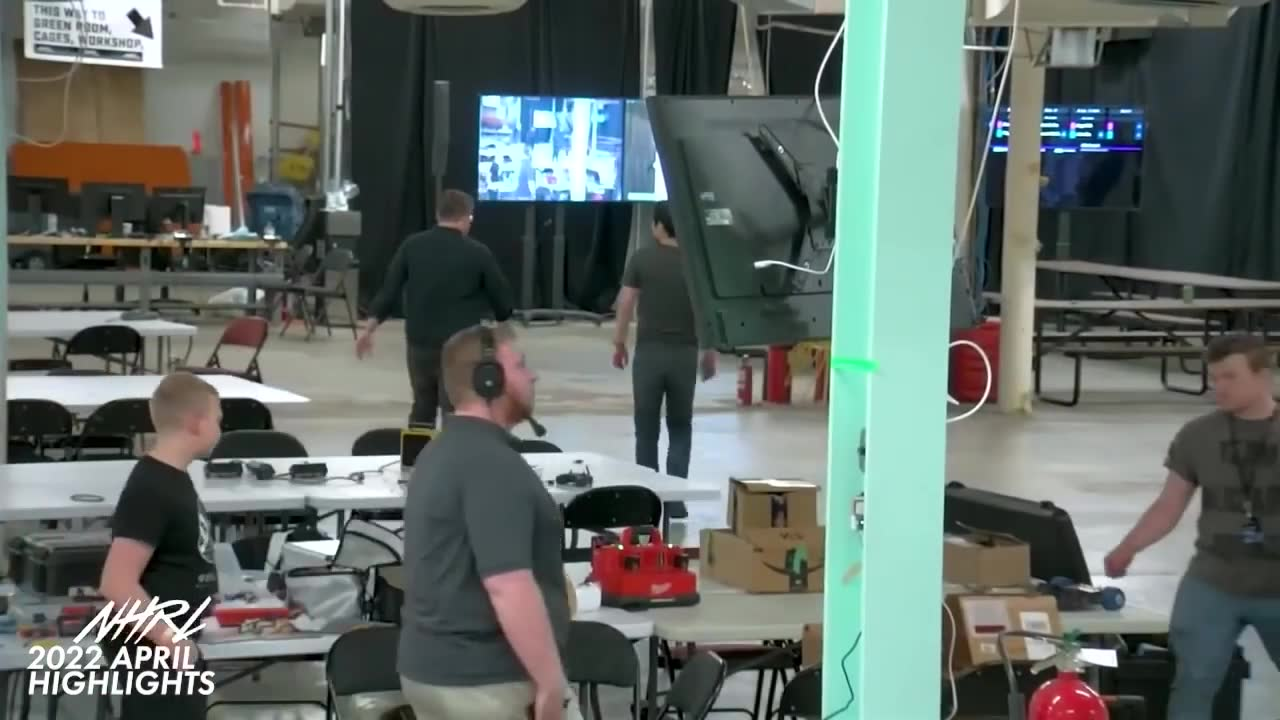combatbot: (1030, 574, 1124, 615)
